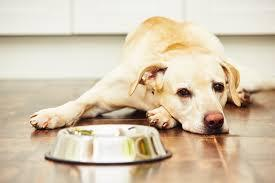Dog: (129, 53, 244, 137)
